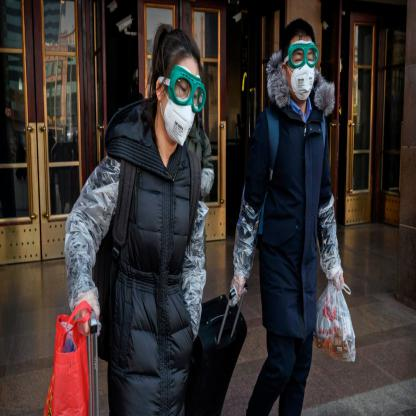Wearing_Mask: (162, 71, 204, 151), (288, 42, 317, 103)
